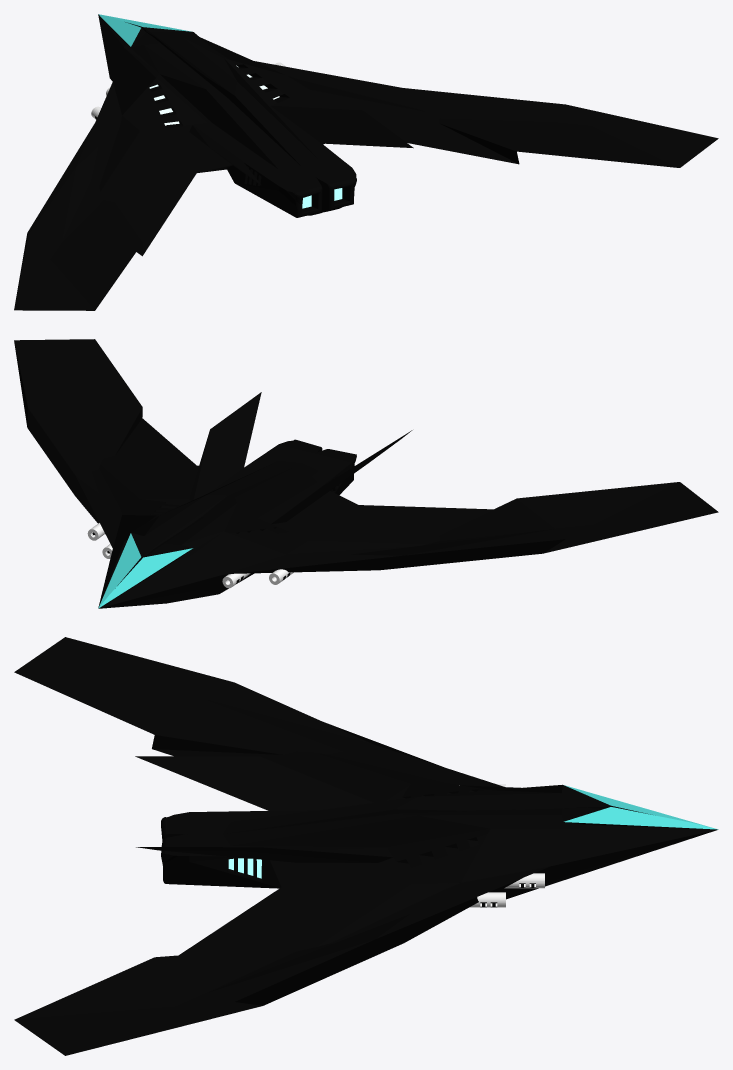
File: playerShip.fbx
3 views of the same model, one above another, from view 1: azimuth 30°, elevation 25°; view 2: azimuth 150°, elevation 25°; view 3: azimuth 270°, elevation 25° (orthographic). The views are drawn at different scales.
Parts seen in each view (by area): view 1: Cube; view 2: Cube; view 3: Cube.
Boxes of the visible parts, <box> form: Cube: <box>14,14,718,310</box>; Cube: <box>14,339,718,608</box>; Cube: <box>14,637,718,1055</box>.
Size of the model in its own units: 3285 by 302 by 2336.
